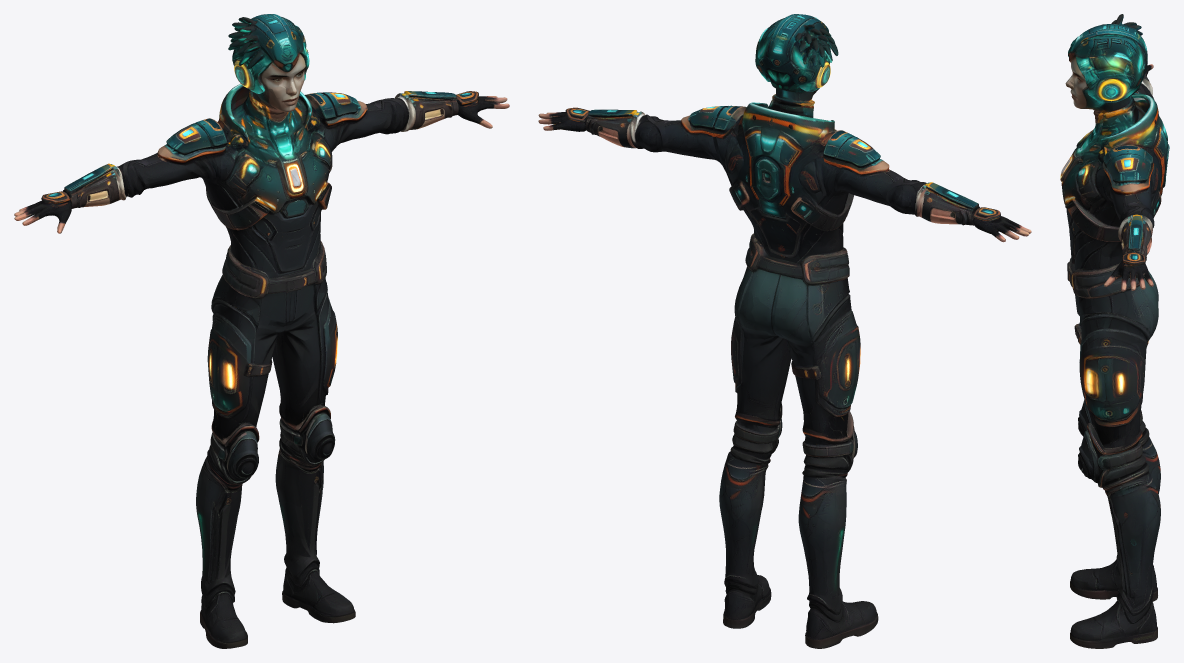
Rendered from nexus-mesh.glb.
3 renders of one model, left to right at view 1: azimuth 30°, elevation 25°; view 2: azimuth 150°, elevation 25°; view 3: azimuth 270°, elevation 25°, orthographic. The views are drawn at different scales.
Parts seen in each view (by area): view 1: Mesh_0; view 2: Mesh_0; view 3: Mesh_0.
Part boxes in pixels (x1,y1,x2,y2): Mesh_0: [14, 14, 509, 648]; Mesh_0: [538, 14, 1031, 648]; Mesh_0: [1060, 14, 1169, 648].
Bounding box in the file's own units: 1.61 × 1.9 × 0.3181.
1 material, 1 textured.
